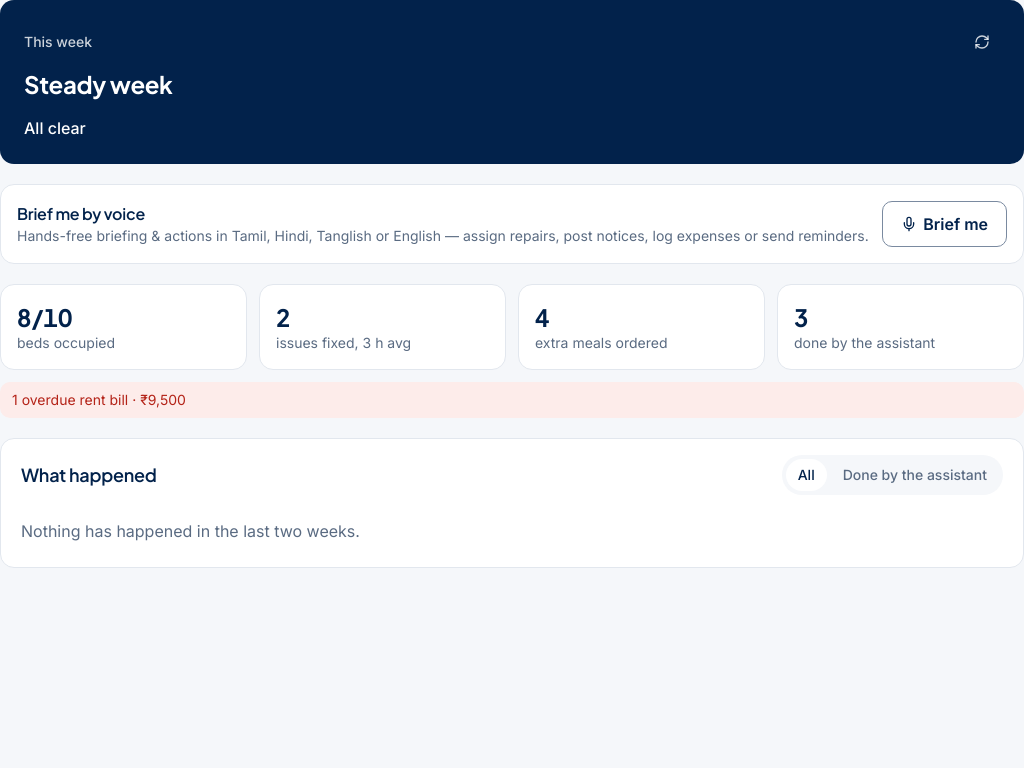
Scenario: PgPulse (owner live voice briefing & actions) › shows a helpful message when live voice briefing is unavailable
The width and height of the screenshot is (1024, 768).
Expected: the heading "Steady week" is shown, [24, 69, 173, 99]
Click the button "Brief me": (945, 224) [882, 201, 1007, 247]
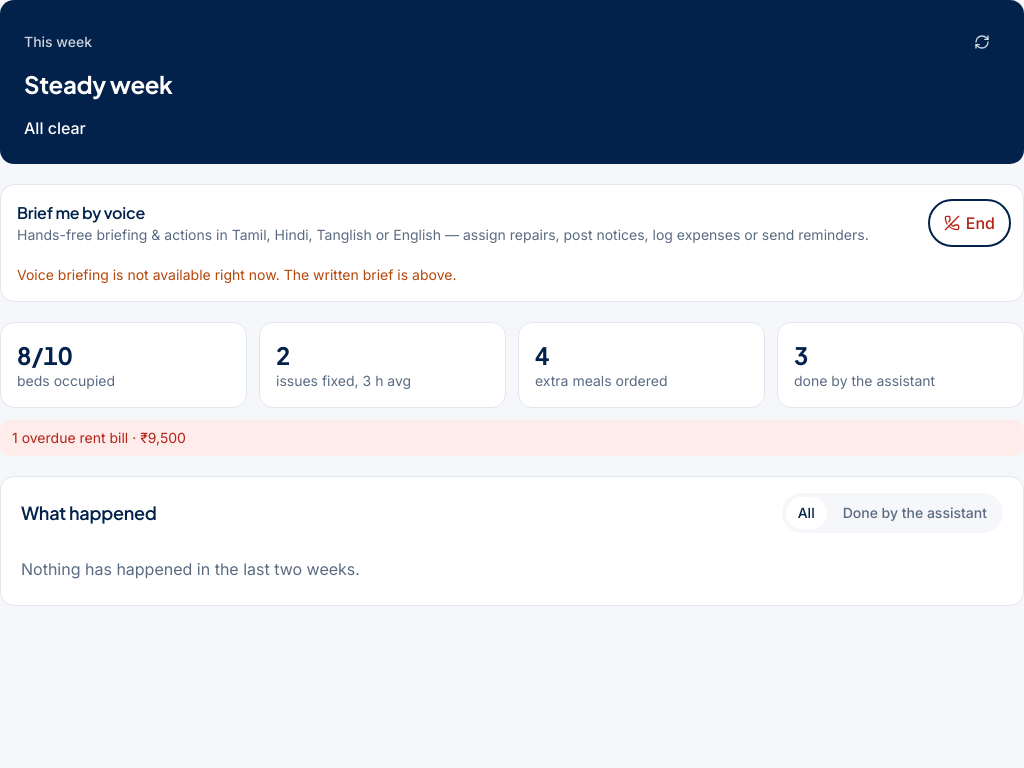
Expected: the message shows "Voice briefing is not available right now.", [17, 266, 456, 283]
